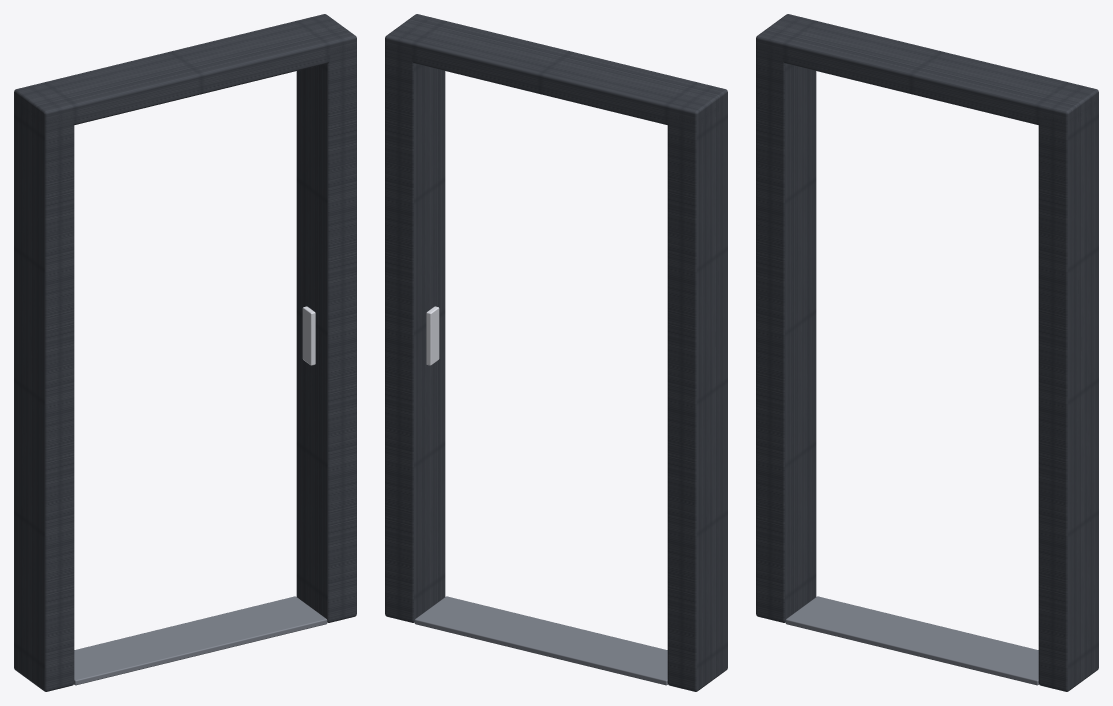
File: BankSecurityDoorFrame.obj
3 renders of one model, left to right at view 1: azimuth 30°, elevation 25°; view 2: azimuth 150°, elevation 25°; view 3: azimuth 330°, elevation 25°, orthographic.
Bounding box in the file's own units: 1.24 × 2.2 × 0.22.
3 materials, 1 textured.
